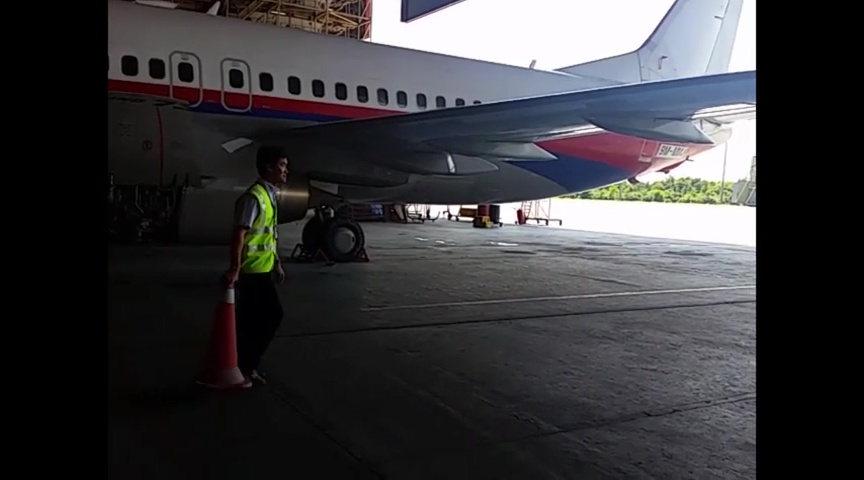safety_cone: (196, 281, 255, 390)
